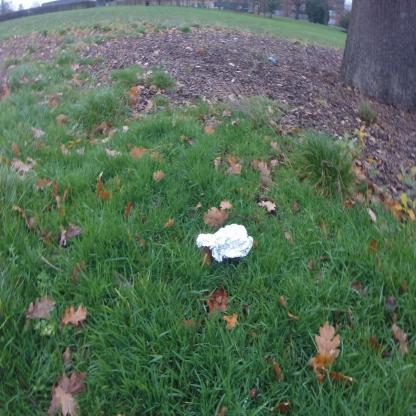metal: (196, 225, 254, 265)
